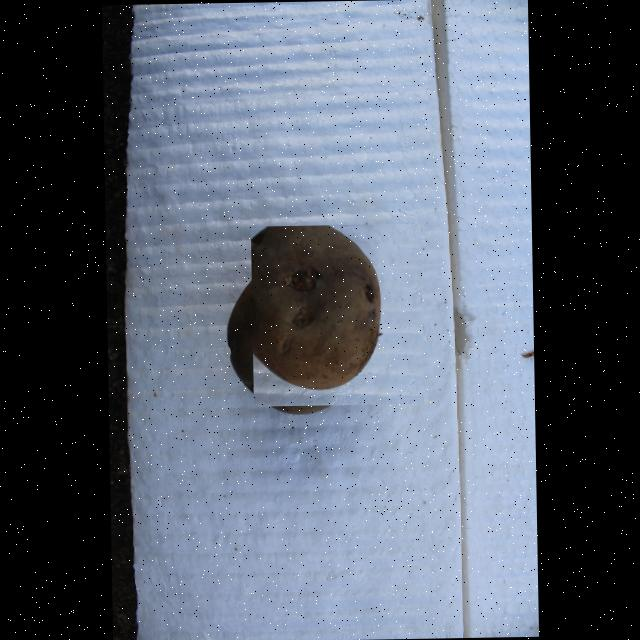Diseased-fungal potato: (251, 222, 424, 405)
